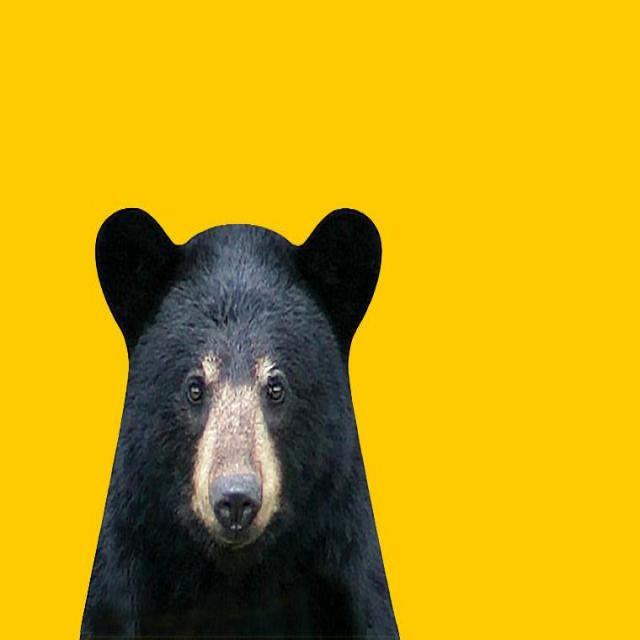Bear: (78, 207, 401, 640)
